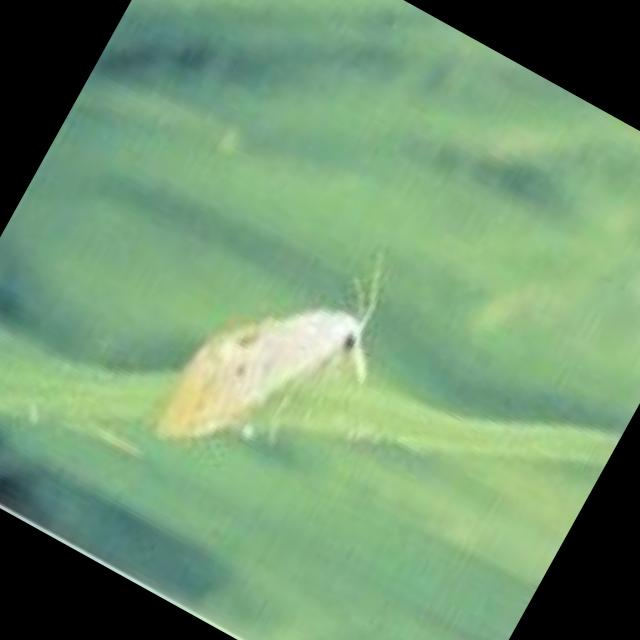stem-borer: (146, 197, 424, 518)
